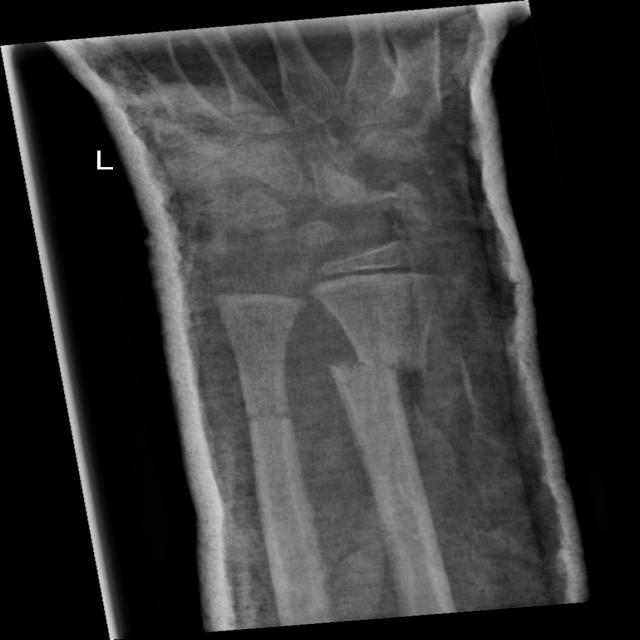radius fracture: (312, 308, 484, 456)
